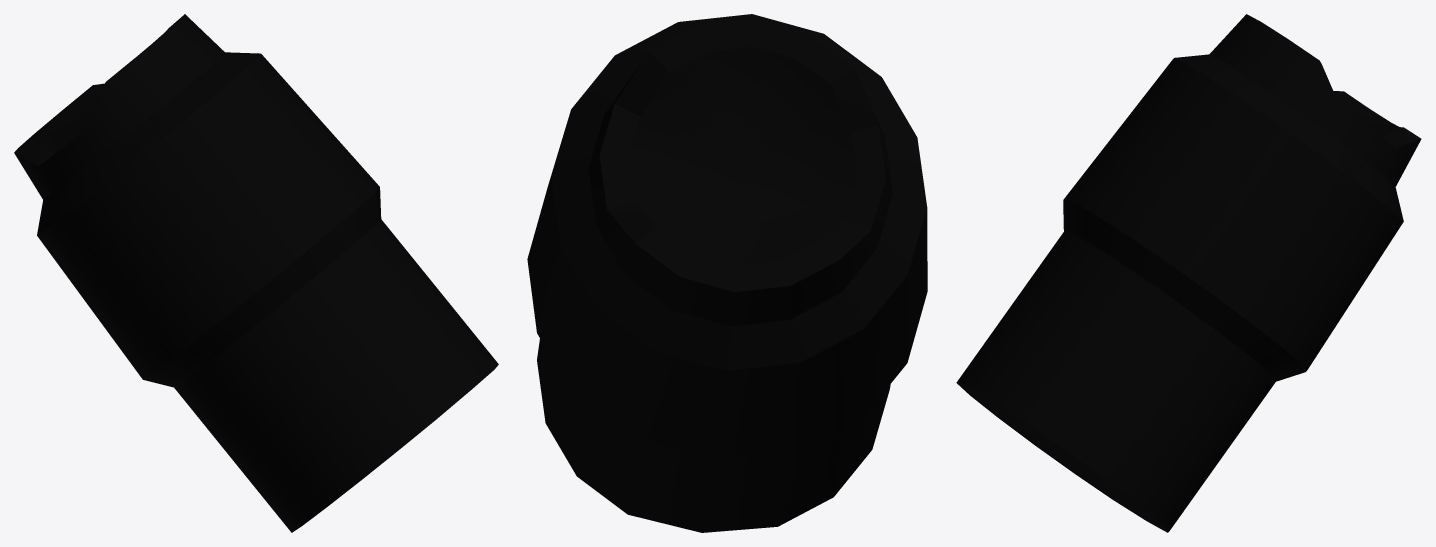
File: shipScrapPart_09.glb
The picture shows the model from 3 angles, left to right: view 1: azimuth 30°, elevation 25°; view 2: azimuth 150°, elevation 25°; view 3: azimuth 270°, elevation 25°; orthographic projection. The views are drawn at different scales.
Visible parts, largest first — view 1: shipScrapPart_09; view 2: shipScrapPart_09; view 3: shipScrapPart_09.
Part boxes in pixels (x1,y1,x2,y2): shipScrapPart_09: [14, 14, 498, 532]; shipScrapPart_09: [527, 14, 927, 532]; shipScrapPart_09: [956, 14, 1421, 532].
Bounding box in the file's own units: 0.5644 × 0.6948 × 0.6478.
Materials: 1 (1 with a texture image).
